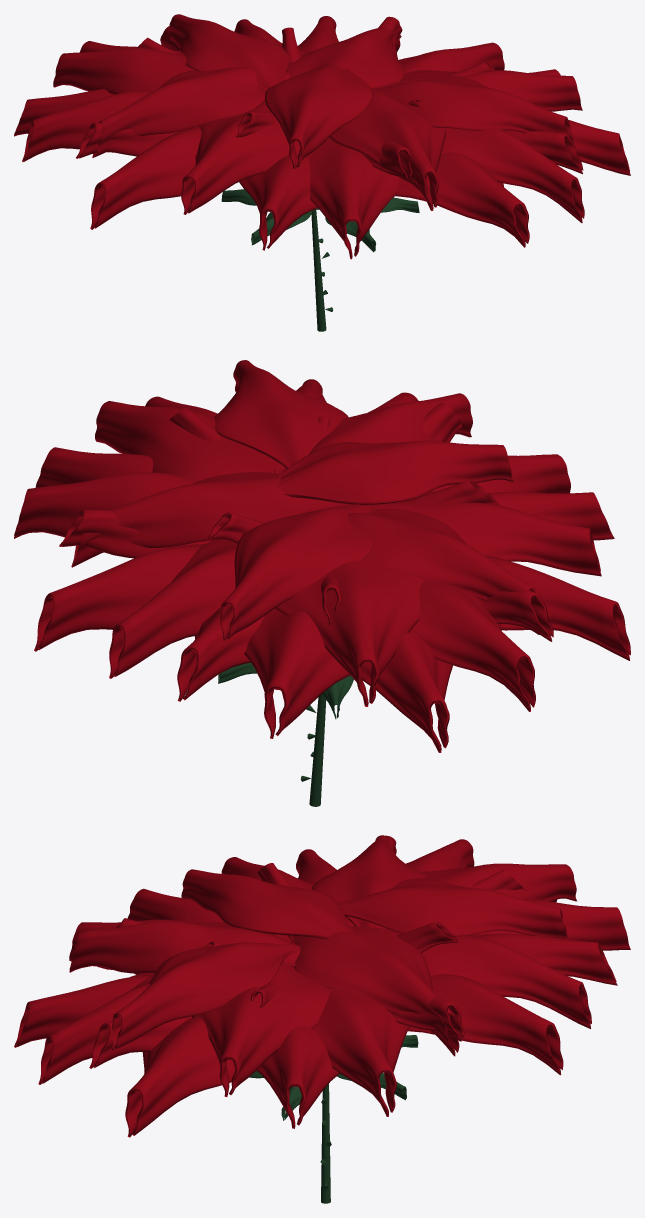
The model's file is rose.glb.
3 views of the same model, one above another, from view 1: azimuth 30°, elevation 25°; view 2: azimuth 150°, elevation 25°; view 3: azimuth 270°, elevation 25° (orthographic). The views are drawn at different scales.
Parts seen in each view (by area): view 1: Petal_36, Petal_37, Petal_39, Petal_31, Petal_26, Petal_34, Petal_29, Petal_23, Petal_21, Petal_38, Petal_33, Petal_35 (+14 smaller); view 2: Petal_39, Petal_38, Petal_33, Petal_35, Petal_36, Petal_30, Petal_32, Petal_31, Petal_28, Petal_37, Petal_22, Petal_25 (+15 smaller); view 3: Petal_37, Petal_35, Petal_38, Petal_32, Petal_39, Petal_30, Petal_27, Petal_34, Petal_24, Petal_22, Petal_19, Petal_36 (+15 smaller).
Part boxes in pixels (bbox=[...]): Petal_36: bbox=[92, 67, 290, 157]; Petal_37: bbox=[371, 75, 573, 142]; Petal_39: bbox=[265, 63, 373, 169]; Petal_31: bbox=[181, 101, 329, 214]; Petal_26: bbox=[307, 138, 399, 259]; Petal_34: bbox=[329, 90, 445, 210]; Petal_29: bbox=[441, 127, 584, 222]; Petal_23: bbox=[90, 127, 201, 229]; Petal_21: bbox=[395, 152, 529, 247]; Petal_38: bbox=[169, 14, 289, 91]; Petal_33: bbox=[53, 48, 193, 94]; Petal_35: bbox=[286, 27, 404, 87]; Petal_39: bbox=[277, 440, 513, 505]; Petal_38: bbox=[220, 504, 375, 641]; Petal_33: bbox=[275, 556, 424, 706]; Petal_35: bbox=[71, 472, 348, 567]; Petal_36: bbox=[347, 509, 539, 634]; Petal_30: bbox=[109, 540, 237, 678]; Petal_32: bbox=[95, 401, 284, 480]; Petal_31: bbox=[370, 491, 601, 576]; Petal_28: bbox=[412, 581, 535, 711]; Petal_37: bbox=[214, 360, 348, 469]; Petal_22: bbox=[34, 543, 205, 651]; Petal_25: bbox=[244, 608, 350, 738]; Petal_37: bbox=[111, 942, 298, 1050]; Petal_35: bbox=[287, 926, 459, 1056]; Petal_38: bbox=[337, 878, 567, 939]; Petal_32: bbox=[192, 962, 329, 1096]; Petal_39: bbox=[181, 869, 355, 939]; Petal_30: bbox=[384, 928, 591, 1028]; Petal_27: bbox=[313, 989, 409, 1116]; Petal_34: bbox=[69, 921, 300, 973]; Petal_24: bbox=[125, 1017, 256, 1137]; Petal_22: bbox=[408, 974, 563, 1075]; Petal_19: bbox=[256, 1026, 339, 1128]; Petal_36: bbox=[312, 835, 426, 929].
Bounding box in the file's own units: 2.18 × 1.19 × 2.23.
